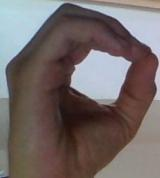O: (1, 0, 160, 178)
